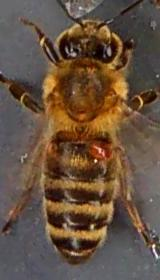varroa_mite: (78, 131, 118, 161)
